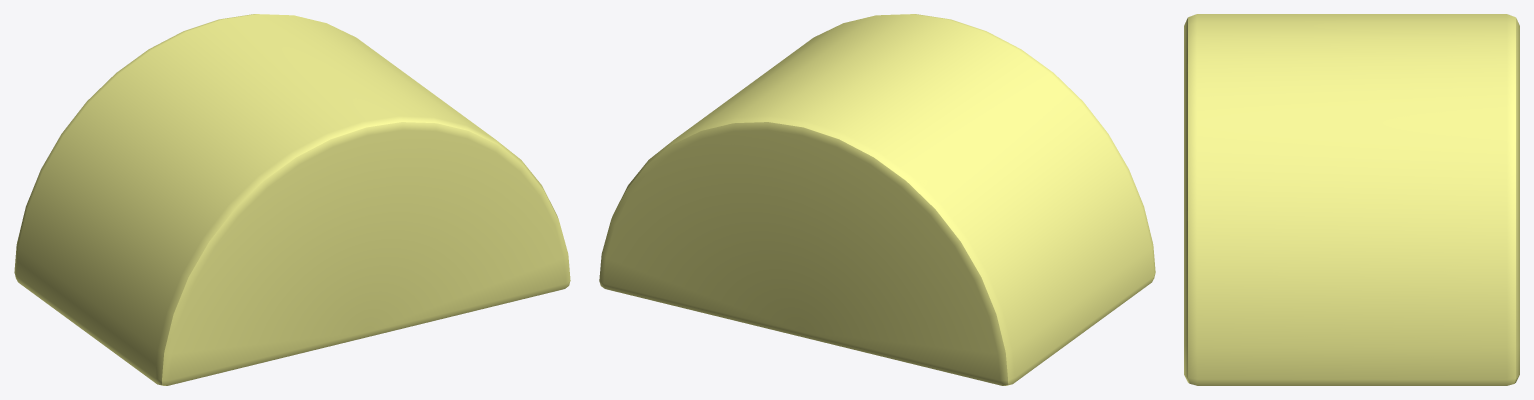
Rendered from HalfCylinder.fbx.
3 renders of one model, left to right at view 1: azimuth 30°, elevation 25°; view 2: azimuth 150°, elevation 25°; view 3: azimuth 270°, elevation 25°, orthographic. The views are drawn at different scales.
Parts seen in each view (by area): view 1: HalfCylinder; view 2: HalfCylinder; view 3: HalfCylinder.
Boxes of the visible parts, <box> form: HalfCylinder: <box>14,14,570,385</box>; HalfCylinder: <box>599,14,1155,385</box>; HalfCylinder: <box>1184,14,1519,385</box>.
Bounding box in the file's own units: 97.55 × 48.55 × 61.62.
